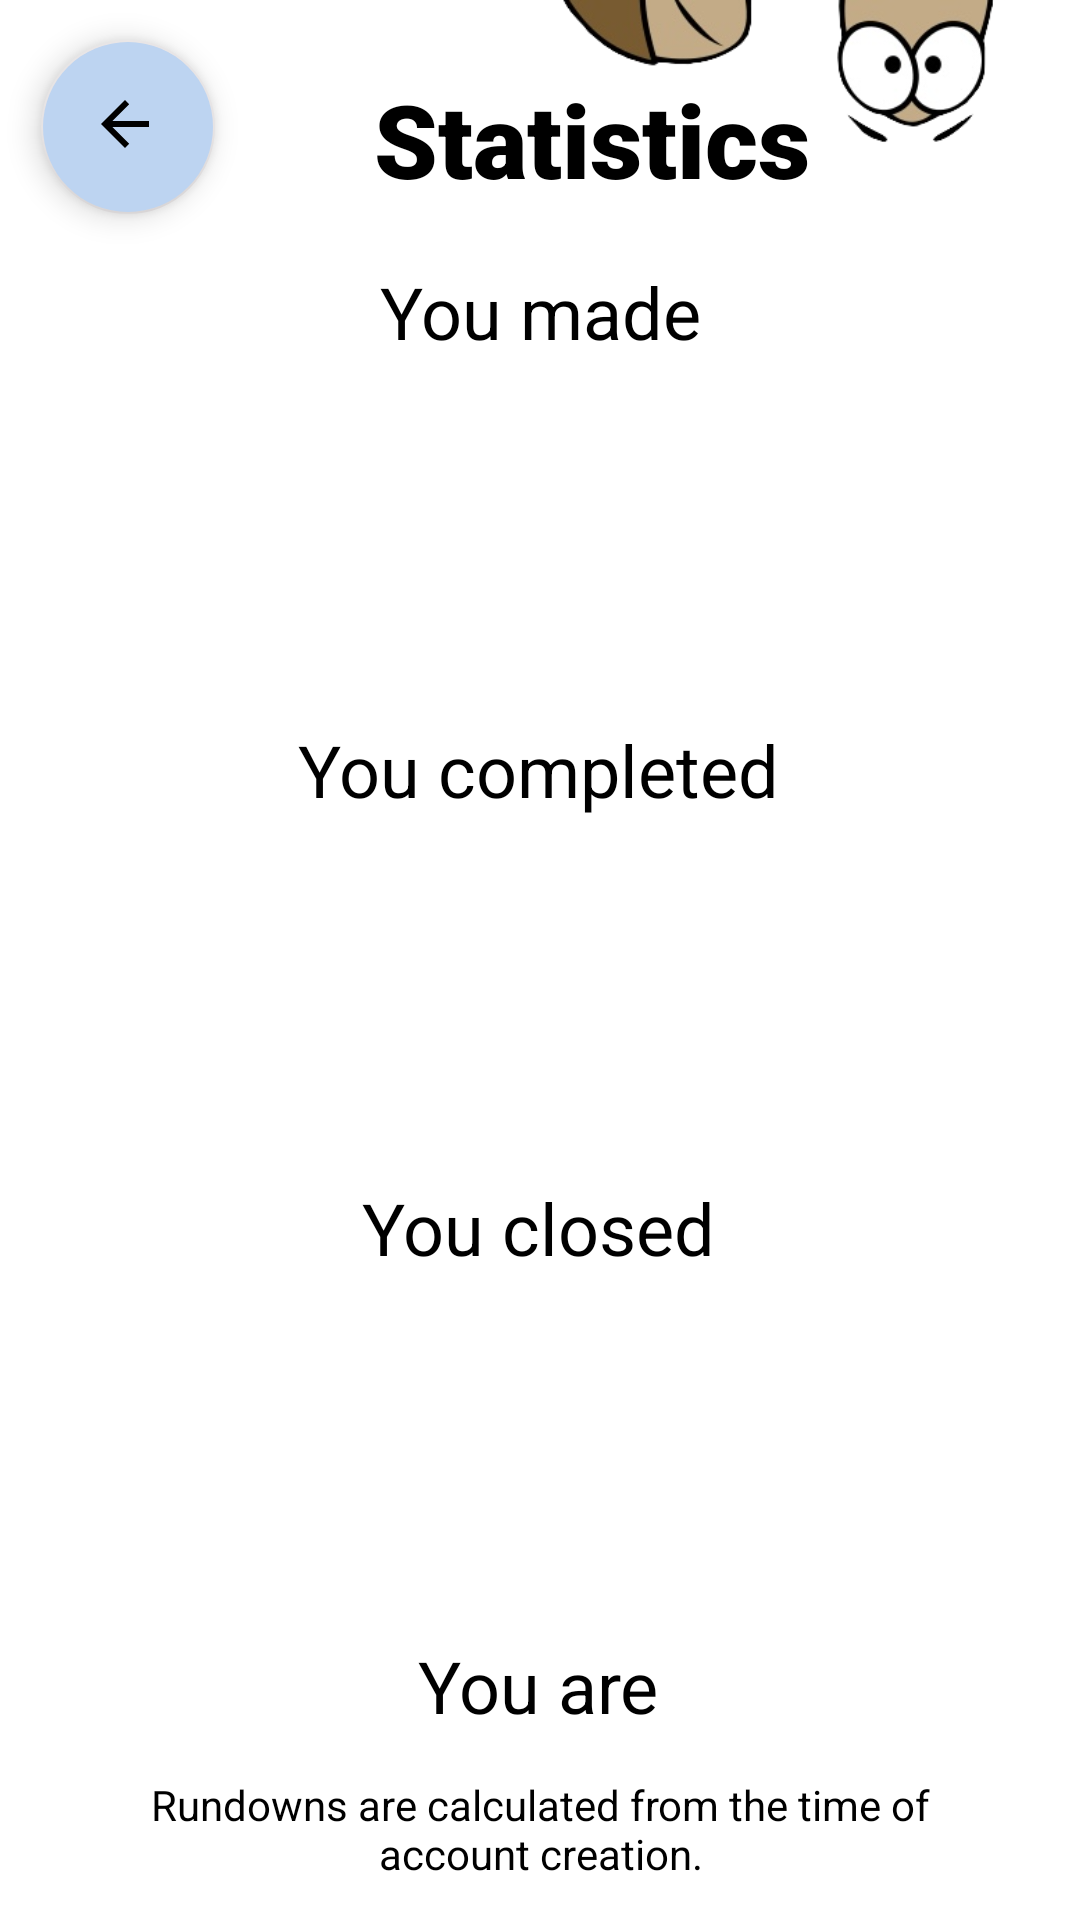

Named icons in this screenshot (1080px×1920px) and their centers, point (x, y):
Back Button: point (128, 128)
